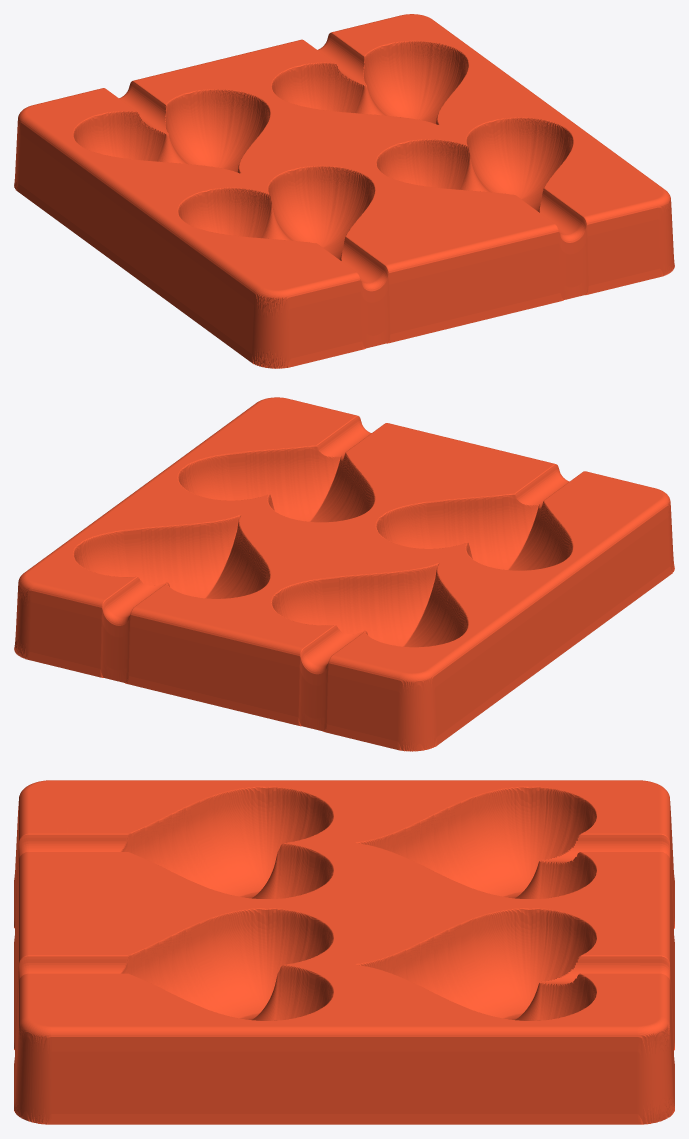
Rendered from mold.glb.
3 views of the same model, one above another, from view 1: azimuth 30°, elevation 25°; view 2: azimuth 150°, elevation 25°; view 3: azimuth 270°, elevation 25° (orthographic). The views are drawn at different scales.
Visible parts, largest first — view 1: geometry_0; view 2: geometry_0; view 3: geometry_0.
Boxes of the visible parts, x1,y1,x2,y2 form: geometry_0: [14, 14, 674, 368]; geometry_0: [14, 397, 674, 751]; geometry_0: [14, 780, 674, 1124].
Size of the model in its own units: 0.1468 by 0.0245 by 0.1592.
